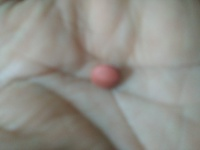Dolorex: (91, 63, 123, 91)
